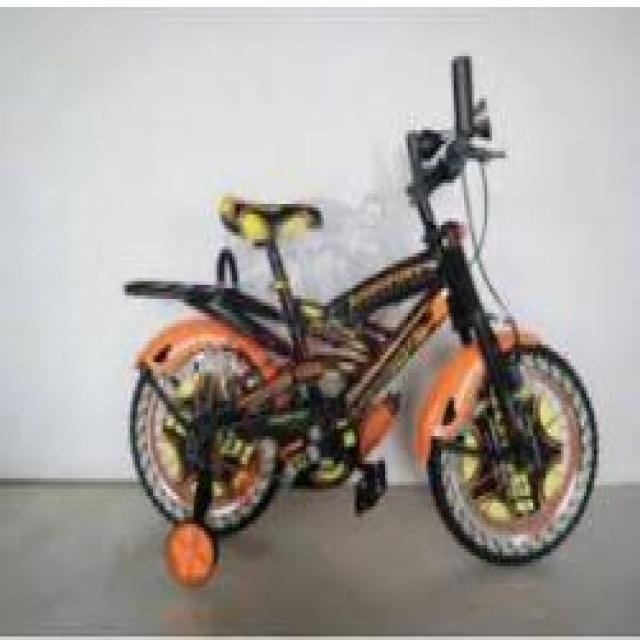bicycle: (126, 106, 598, 592)
